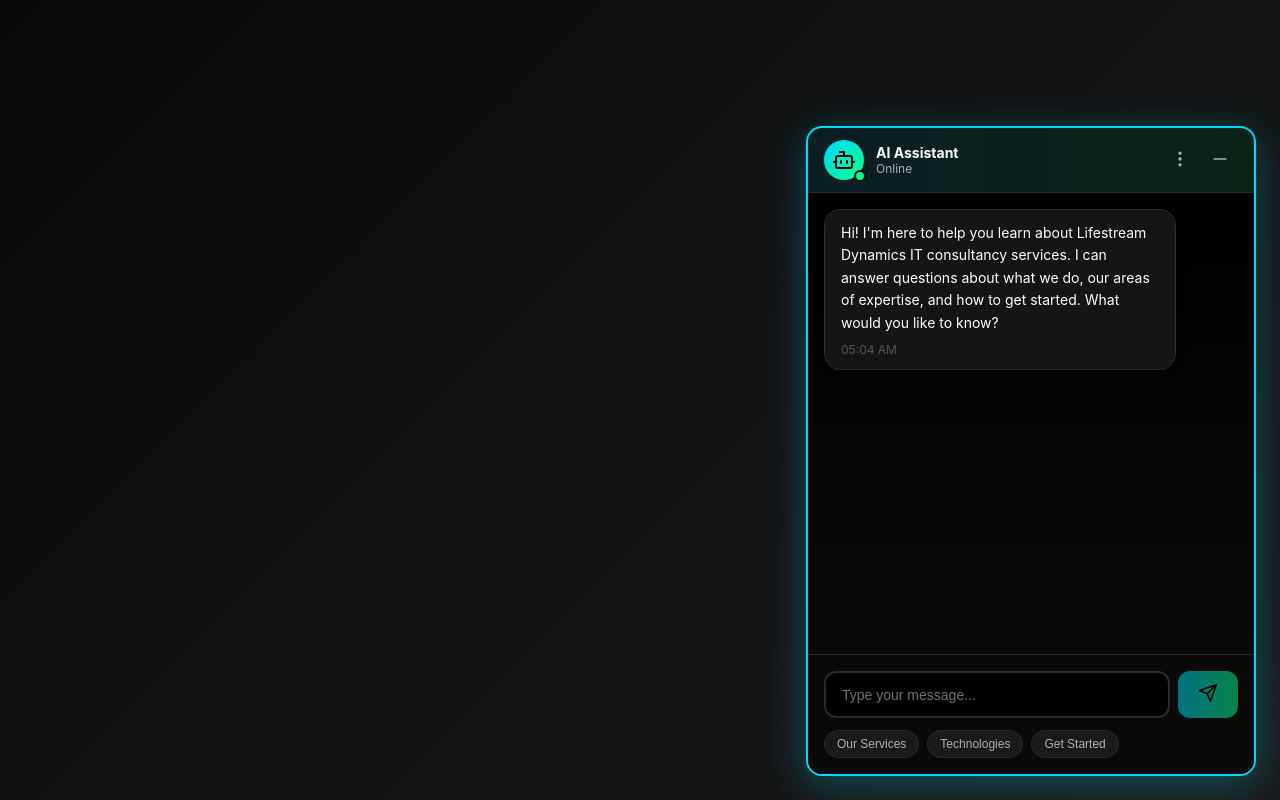
Scenario: ChatBot › Streaming Mode › should display error message when streaming fails
Type "Hello!" into the field with placeholder "Type your message...". click: (997, 694)
box: x1=824 y1=671 x2=1170 y2=718
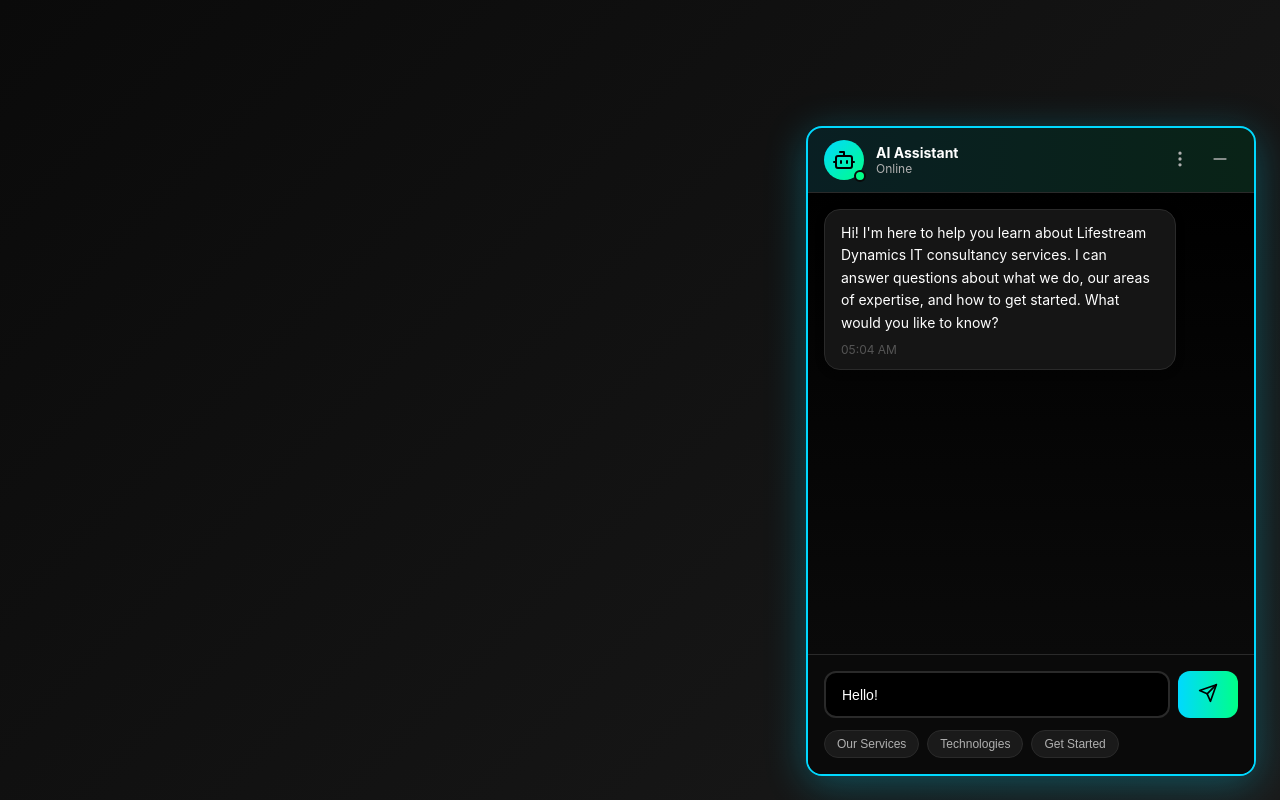
Click the button named "send message". click: (1208, 694)
box: x1=1178 y1=671 x2=1238 y2=718
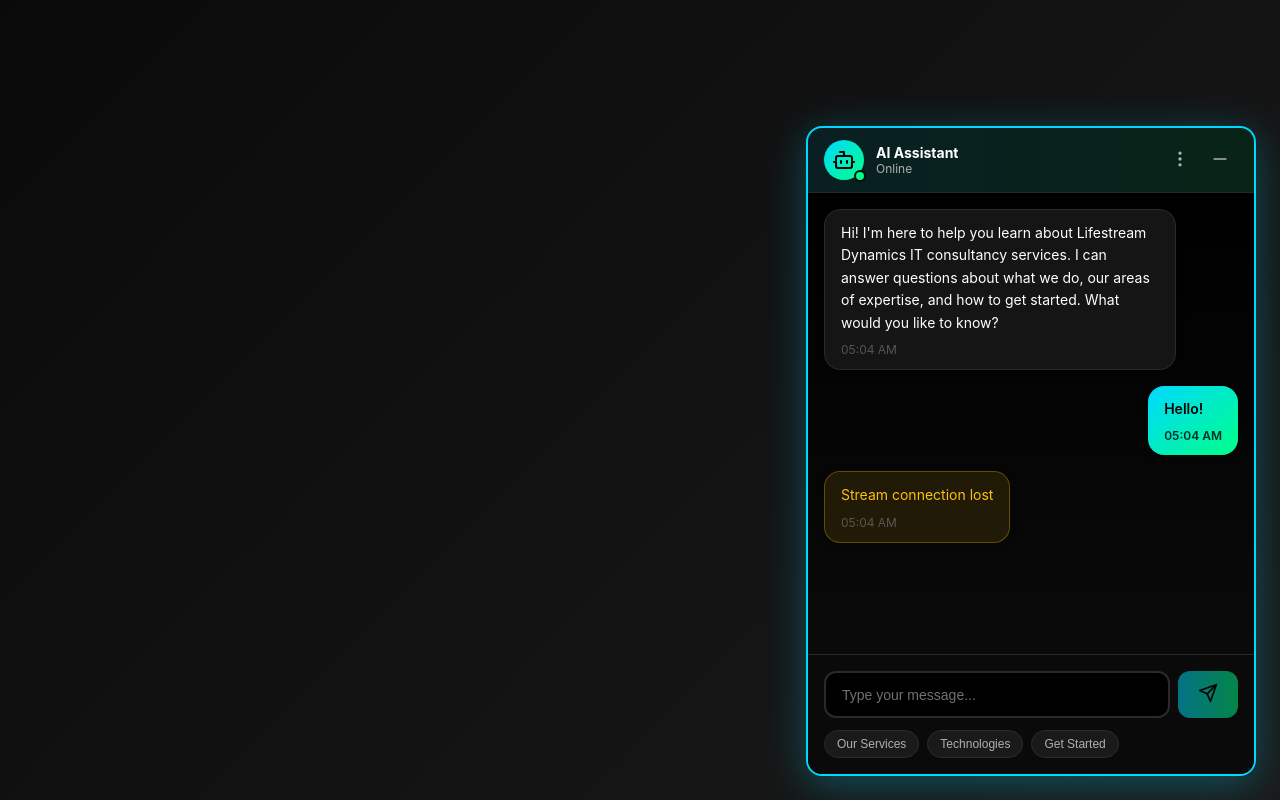
Expected: the text "Stream connection lost" is shown, x1=841 y1=484 x2=993 y2=507
